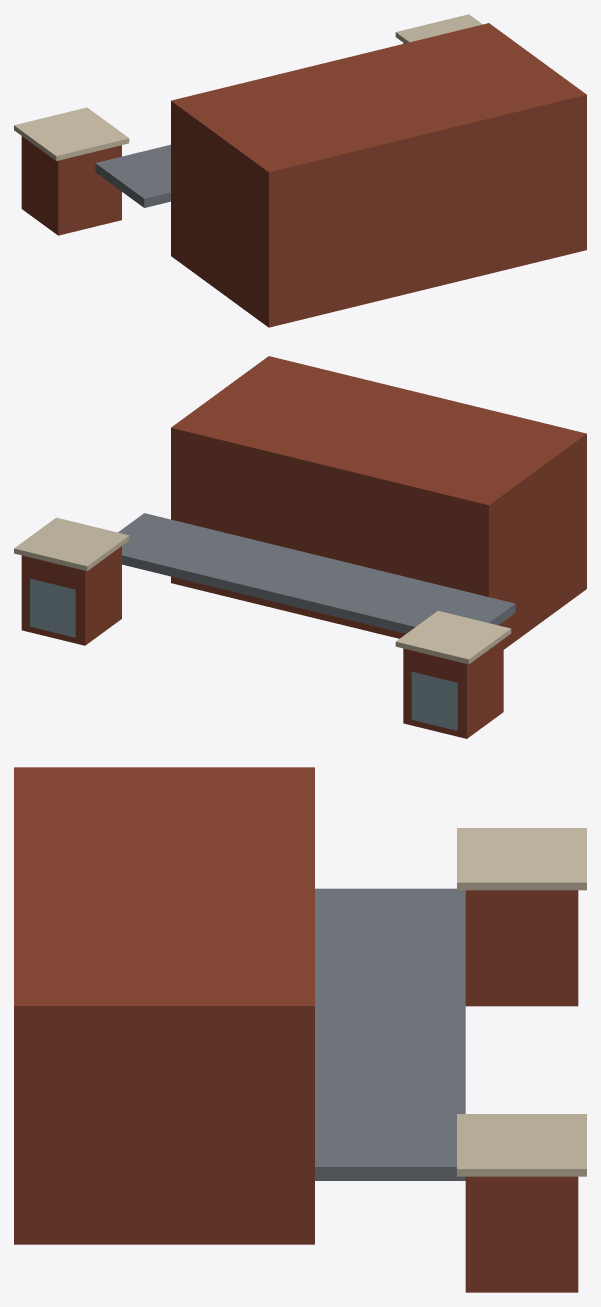
3 renders of one model, top to bottom at view 1: azimuth 30°, elevation 25°; view 2: azimuth 150°, elevation 25°; view 3: azimuth 270°, elevation 25°, orthographic. The views are drawn at different scales.
Visible parts, largest first — view 1: jamaica-station-lod3; view 2: jamaica-station-lod3; view 3: jamaica-station-lod3.
Part boxes in pixels (<box>): jamaica-station-lod3: <box>14,14,586,327</box>; jamaica-station-lod3: <box>14,356,586,738</box>; jamaica-station-lod3: <box>14,767,586,1292</box>.
Bounding box in the file's own units: 94.39 × 30.8 × 66.99.
